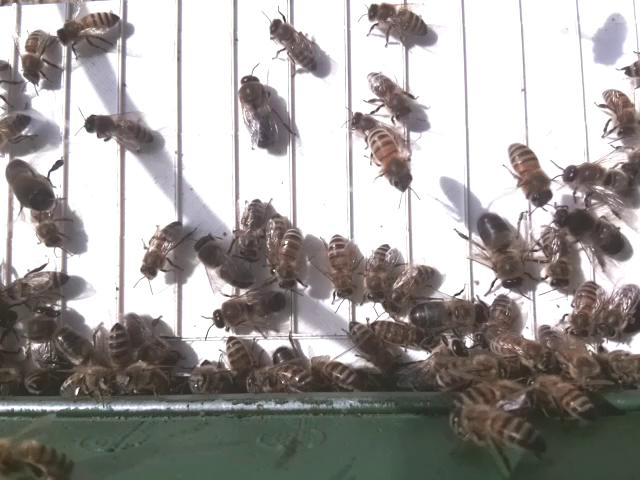Drone: (476, 208, 526, 291), (553, 203, 628, 257), (193, 231, 254, 291), (238, 70, 282, 151), (209, 287, 292, 329), (558, 159, 638, 197), (409, 298, 488, 331)
Worker: (136, 218, 186, 282), (504, 140, 551, 208), (267, 15, 320, 74), (368, 129, 416, 193), (362, 0, 433, 41), (82, 111, 154, 148), (57, 9, 127, 46), (598, 83, 640, 142), (538, 225, 574, 292), (343, 317, 390, 368), (360, 239, 397, 303), (367, 67, 412, 118), (568, 275, 602, 341), (237, 193, 268, 264), (386, 262, 438, 304), (325, 233, 356, 303), (275, 225, 306, 290), (20, 26, 51, 89), (13, 267, 74, 295)
